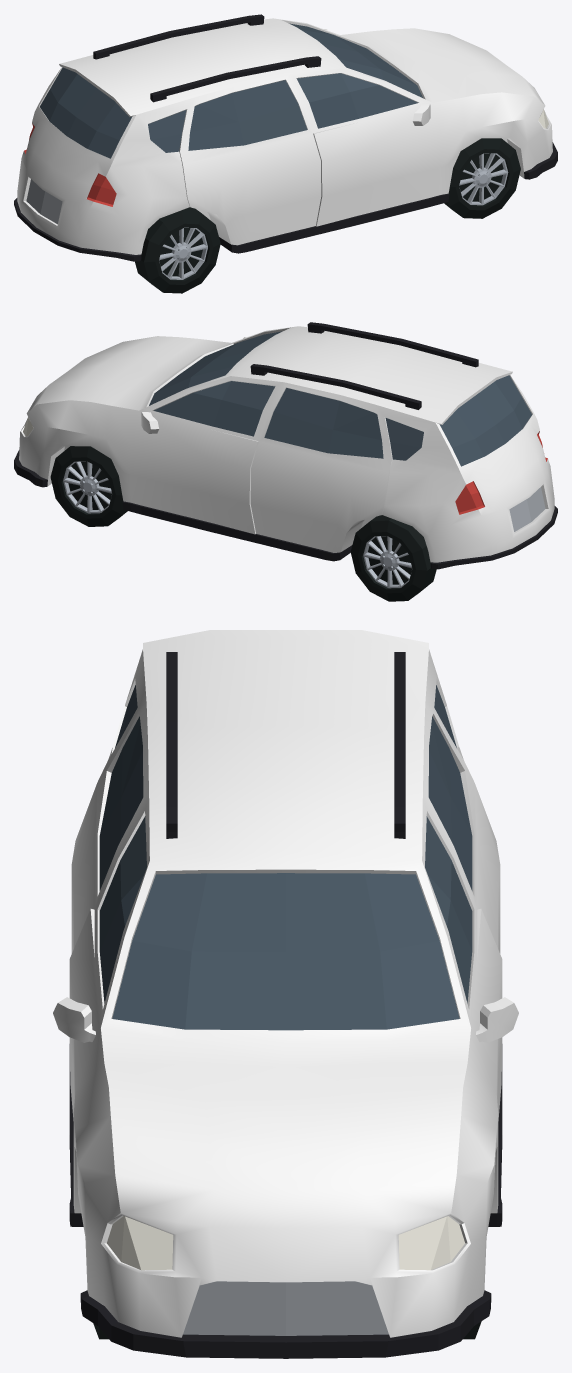
The model's file is carro_suv.glb.
3 views of the same model, one above another, from view 1: azimuth 30°, elevation 25°; view 2: azimuth 150°, elevation 25°; view 3: azimuth 270°, elevation 25° (orthographic). The views are drawn at different scales.
Parts seen in each view (by area): view 1: carroceria, vidro, detalhes, lanterna; view 2: carroceria, vidro, detalhes, lanterna; view 3: carroceria, vidro, detalhes, farol.
Part boxes in pixels (<box>): carroceria: <box>17,18,552,254</box>; vidro: <box>40,23,422,158</box>; detalhes: <box>14,14,557,293</box>; lanterna: <box>24,123,116,206</box>; carroceria: <box>19,326,554,562</box>; vidro: <box>149,331,532,466</box>; detalhes: <box>14,322,557,601</box>; lanterna: <box>455,431,547,514</box>; carroceria: <box>53,630,518,1337</box>; vidro: <box>99,685,472,1030</box>; detalhes: <box>69,652,502,1358</box>; farol: <box>107,1216,464,1270</box>.
Size of the model in its own units: 4.7 by 1.72 by 1.92.
